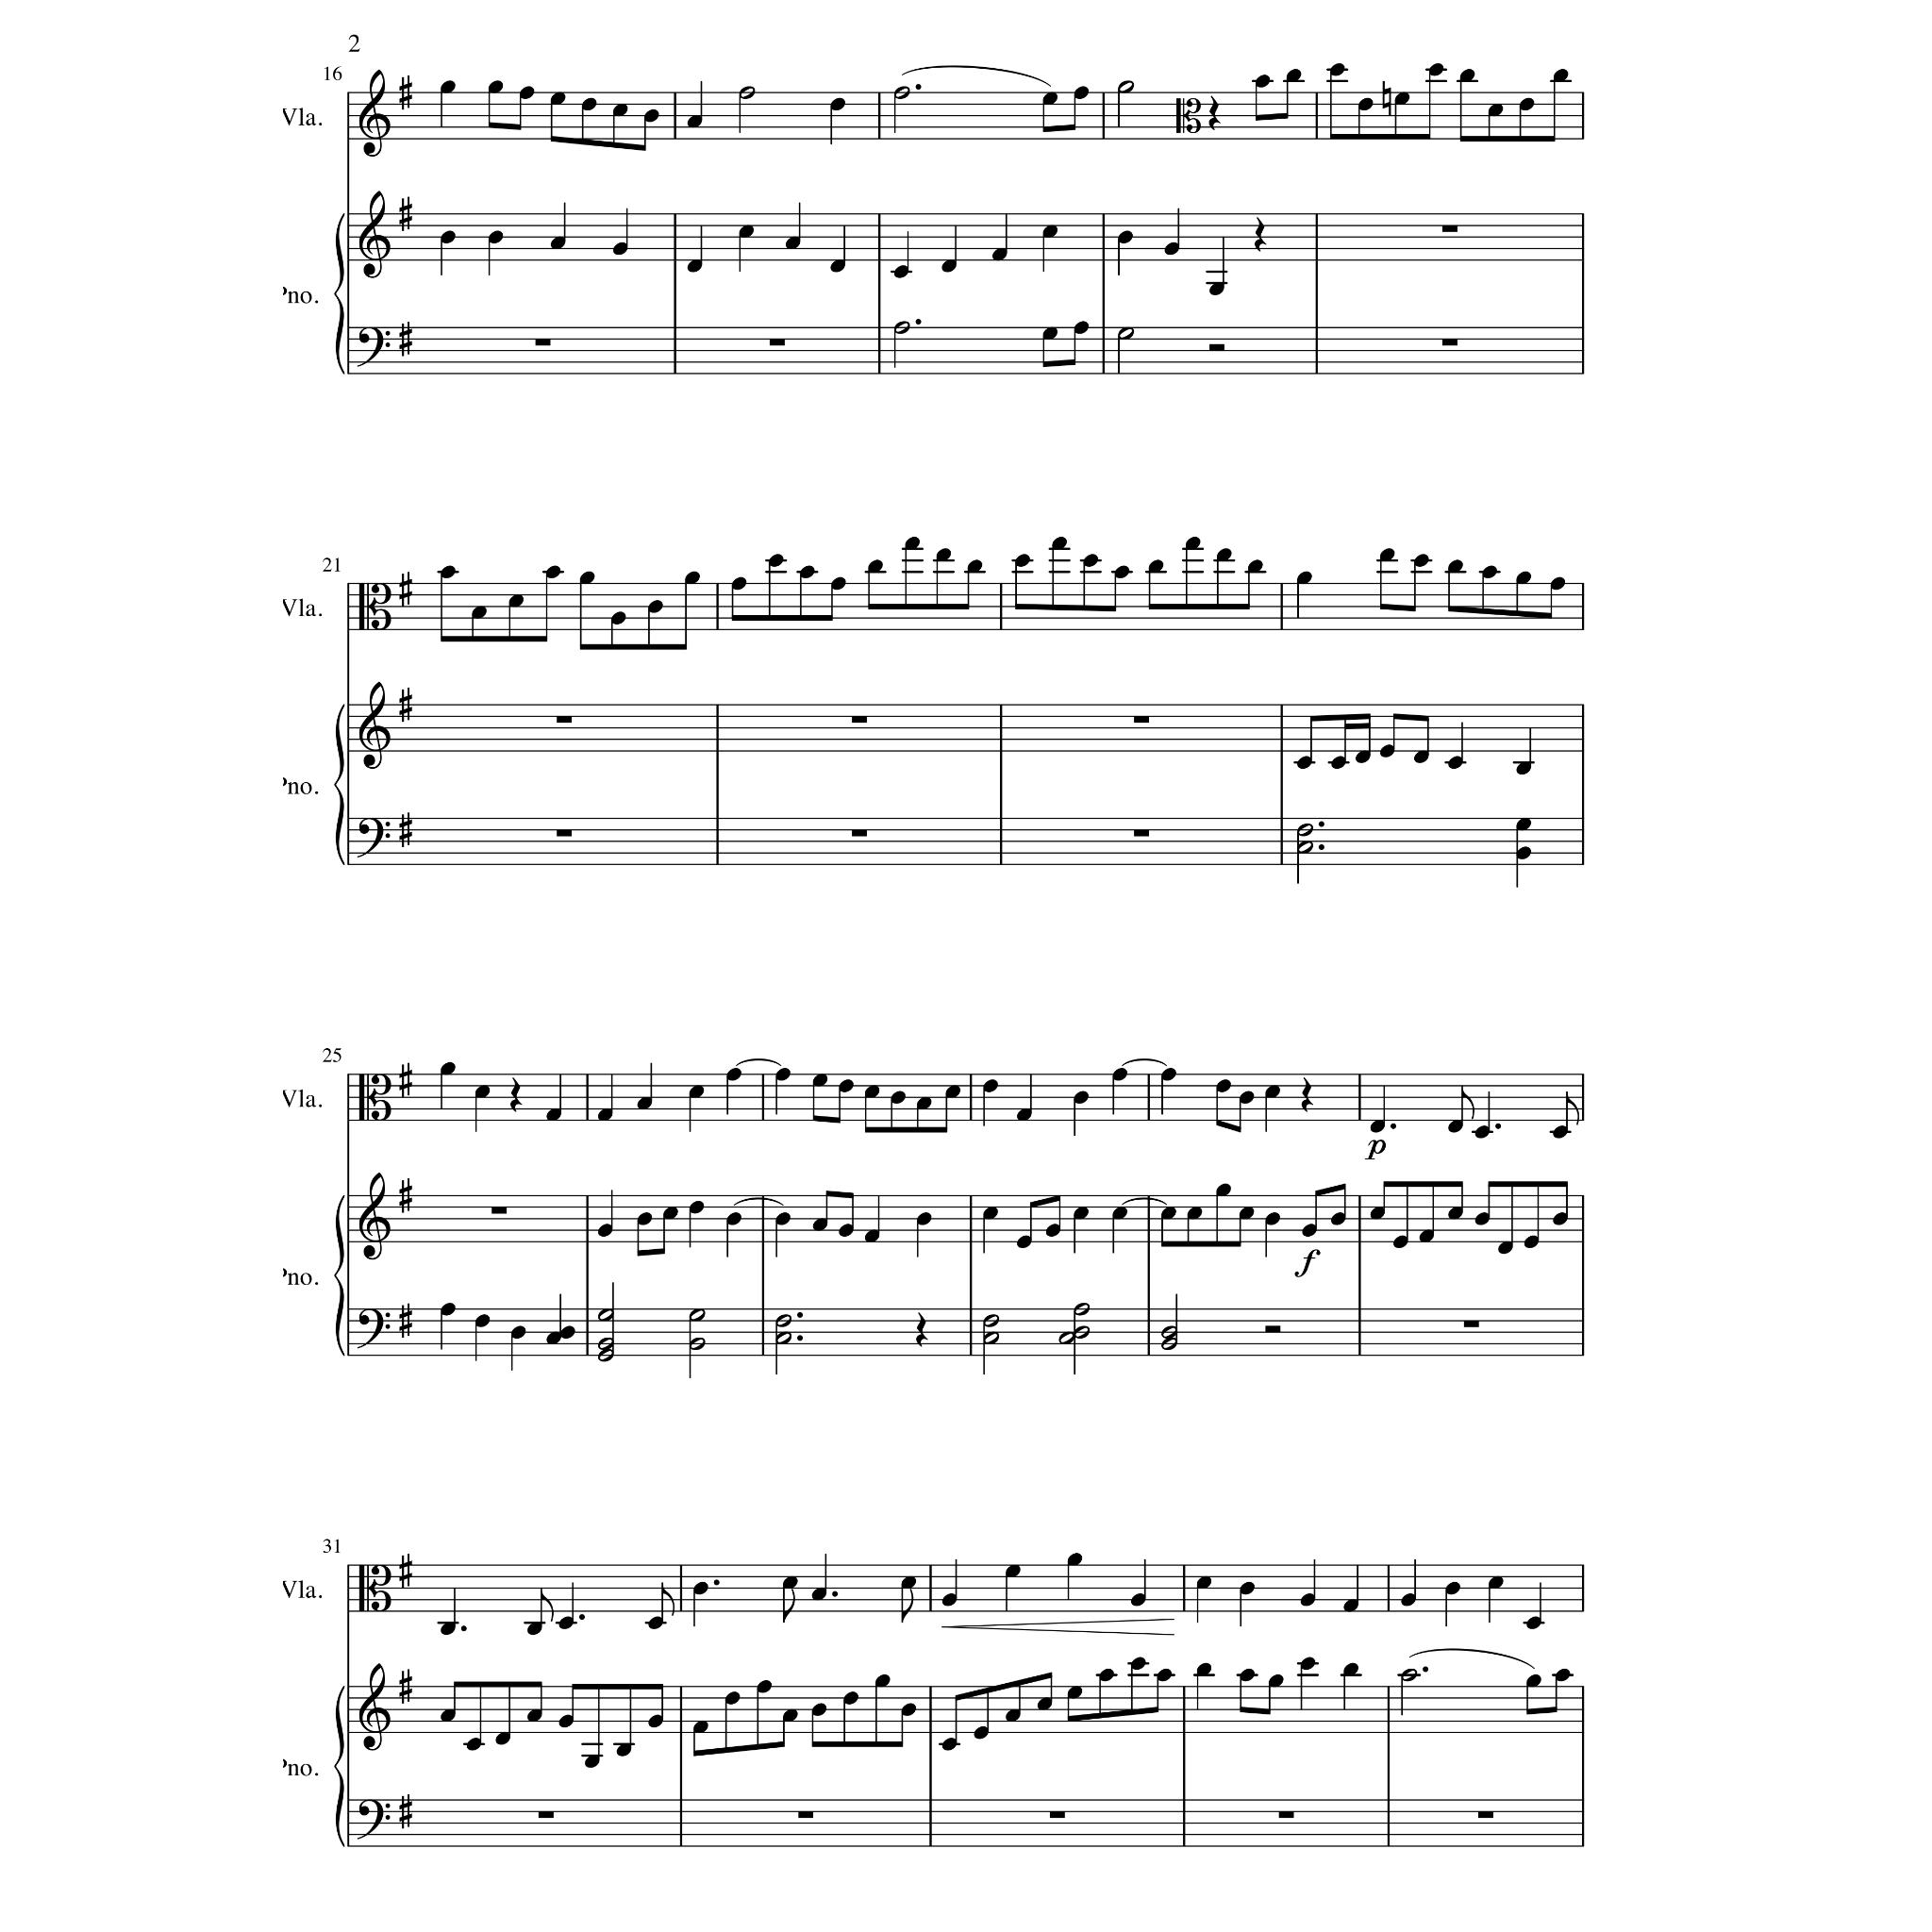brace: (333, 1686, 345, 1849), (333, 214, 345, 375), (333, 704, 345, 865), (333, 1196, 345, 1357)
fClef: (357, 327, 391, 368), (357, 817, 391, 858), (357, 1309, 391, 1350), (357, 1799, 391, 1840)
flag8thDown: (901, 1589, 913, 1622), (782, 1589, 794, 1622)
flag8thUp: (1566, 1092, 1580, 1125), (1461, 1086, 1474, 1120), (541, 1589, 554, 1622), (662, 1583, 674, 1617)
gClef: (359, 191, 391, 280), (359, 69, 391, 157), (359, 681, 391, 770), (359, 1171, 391, 1260), (359, 1663, 391, 1752)
noteheadBlack: (1184, 536, 1201, 550), (830, 577, 847, 591), (545, 1332, 563, 1346), (1553, 1668, 1571, 1683), (1525, 1674, 1543, 1688), (1525, 1615, 1543, 1629), (1299, 1656, 1316, 1670), (1042, 225, 1058, 239), (1042, 92, 1058, 106), (1254, 74, 1270, 88), (1116, 230, 1132, 244), (1074, 87, 1090, 101), (1518, 97, 1534, 111), (1394, 92, 1410, 106), (1357, 97, 1373, 111), (580, 97, 596, 111), (686, 258, 702, 272), (686, 115, 702, 129), (487, 230, 502, 244), (441, 230, 456, 244), (550, 92, 566, 106), (518, 87, 534, 101), (991, 248, 1007, 262), (941, 258, 957, 272), (738, 225, 754, 239), (830, 258, 846, 272), (830, 97, 846, 111), (1353, 750, 1369, 764), (1330, 755, 1346, 770), (1215, 548, 1231, 563), (1148, 559, 1164, 573), (1295, 755, 1311, 770), (1295, 571, 1311, 586), (1247, 559, 1263, 573), (1550, 577, 1566, 591), (1414, 750, 1430, 764), (1447, 559, 1463, 573), (1378, 743, 1394, 757), (1516, 817, 1532, 832), (1516, 846, 1532, 860), (1516, 571, 1532, 586), (1378, 548, 1394, 563), (1447, 755, 1463, 770), (648, 600, 663, 614), (579, 571, 594, 586), (731, 577, 747, 591), (683, 571, 699, 586), (966, 559, 982, 573), (936, 548, 952, 563), (904, 536, 920, 550), (1051, 536, 1067, 550), (867, 559, 883, 573), (1215, 1184, 1231, 1198), (1265, 1085, 1281, 1099), (1265, 1212, 1281, 1226), (1016, 1235, 1031, 1249), (1552, 1212, 1568, 1226), (1523, 1235, 1539, 1249), (1552, 1125, 1568, 1139), (1474, 1125, 1490, 1139), (1474, 1212, 1490, 1226), (1330, 1212, 1346, 1226), (1392, 1235, 1408, 1249), (637, 1097, 653, 1111), (637, 1212, 653, 1226), (725, 1212, 741, 1226), (688, 1085, 704, 1099), (441, 1062, 456, 1076), (441, 1302, 456, 1316), (510, 1325, 525, 1339), (559, 1325, 575, 1339), (474, 1085, 490, 1099), (916, 1097, 932, 1111), (916, 1212, 932, 1226), (863, 1085, 879, 1099), (945, 1085, 961, 1099), (775, 1212, 791, 1226), (812, 1074, 828, 1088), (812, 1217, 828, 1231), (1196, 1663, 1212, 1677), (1196, 1576, 1212, 1591), (1238, 1668, 1254, 1683), (1238, 1582, 1254, 1596), (1005, 1709, 1021, 1723), (1037, 1697, 1053, 1711), (1131, 1656, 1146, 1670), (1099, 1668, 1115, 1683), (1488, 1576, 1504, 1591), (1343, 1663, 1359, 1677), (1267, 1674, 1283, 1688), (1445, 1582, 1461, 1596), (557, 1615, 573, 1629), (527, 1709, 543, 1723), (694, 1582, 709, 1596), (648, 1615, 663, 1629), (616, 1743, 632, 1757), (495, 1732, 511, 1746), (465, 1737, 481, 1752), (441, 1709, 456, 1723), (874, 1674, 890, 1688), (842, 1691, 858, 1706), (810, 1702, 826, 1716), (810, 1587, 826, 1601), (941, 1737, 957, 1752), (901, 1702, 916, 1716), (901, 1576, 916, 1591), (724, 1691, 740, 1706), (782, 1576, 798, 1591), (782, 1709, 798, 1723), (1284, 69, 1302, 81), (1113, 566, 1131, 579), (545, 1109, 563, 1122), (1299, 1594, 1316, 1606), (1157, 1668, 1171, 1683), (1208, 283, 1224, 295), (1164, 242, 1180, 255), (1042, 327, 1058, 340), (1074, 322, 1090, 334), (1552, 69, 1568, 81), (1488, 104, 1504, 117), (1460, 69, 1476, 81), (1329, 64, 1345, 76), (1428, 64, 1444, 76), (612, 104, 628, 117), (612, 242, 628, 255), (642, 110, 658, 122), (487, 81, 502, 94), (441, 81, 456, 94), (550, 237, 566, 249), (893, 265, 909, 278), (784, 237, 800, 249), (1083, 554, 1099, 566), (1414, 554, 1430, 566), (1516, 763, 1532, 775), (1481, 566, 1497, 579), (610, 612, 626, 625), (545, 566, 561, 579), (508, 594, 524, 607), (471, 607, 487, 619), (441, 566, 456, 579), (798, 566, 814, 579), (768, 554, 784, 566), (1215, 1079, 1231, 1092), (1187, 1207, 1203, 1219), (1238, 1092, 1254, 1104), (1238, 1207, 1254, 1219), (1074, 1092, 1090, 1104), (1046, 1224, 1062, 1237), (1074, 1207, 1090, 1219), (1016, 1109, 1031, 1122), (1161, 1207, 1177, 1219), (1161, 1069, 1177, 1081), (1369, 1120, 1385, 1132), (1369, 1207, 1385, 1219), (1302, 1224, 1318, 1237), (1419, 1230, 1435, 1242), (1447, 1120, 1463, 1132), (1447, 1207, 1463, 1219), (596, 1109, 612, 1122), (596, 1224, 612, 1237), (725, 1069, 741, 1081), (662, 1207, 678, 1219), (688, 1201, 704, 1214), (474, 1315, 490, 1327), (890, 1092, 906, 1104), (839, 1224, 855, 1237), (863, 1230, 879, 1242), (982, 1079, 998, 1092), (982, 1207, 998, 1219), (839, 1079, 855, 1092), (775, 1069, 791, 1081), (1005, 1566, 1021, 1578), (973, 1727, 989, 1739), (1131, 1594, 1146, 1606), (1067, 1686, 1083, 1698), (1067, 1553, 1083, 1566), (1401, 1594, 1417, 1606), (1343, 1599, 1359, 1612), (557, 1714, 573, 1727), (584, 1755, 600, 1767), (527, 1622, 543, 1635), (694, 1721, 709, 1734), (648, 1714, 663, 1727), (441, 1622, 456, 1635), (941, 1594, 957, 1606), (755, 1681, 771, 1693), (1016, 554, 1030, 566), (1113, 1207, 1127, 1219), (1113, 1069, 1127, 1081), (1499, 1242, 1513, 1254)
noteheadHalf: (738, 87, 755, 101), (893, 87, 911, 101), (1072, 1325, 1090, 1339), (1072, 1302, 1090, 1316), (688, 1338, 706, 1352), (982, 1332, 1000, 1346), (1399, 1668, 1417, 1683), (1297, 823, 1313, 837), (1297, 840, 1313, 855), (1058, 1332, 1074, 1346), (1161, 1338, 1177, 1352), (1161, 1325, 1177, 1339), (598, 1348, 614, 1362), (598, 1338, 614, 1352), (775, 1332, 791, 1346), (1116, 81, 1134, 94), (1116, 327, 1134, 340), (893, 322, 911, 334), (688, 1309, 706, 1322), (982, 1315, 1000, 1327), (598, 1309, 614, 1322), (775, 1315, 791, 1327)
restHalf: (1208, 345, 1224, 352), (1265, 1325, 1281, 1332)
restQuarter: (510, 1076, 522, 1113), (1208, 96, 1221, 131), (1254, 218, 1267, 253), (915, 1313, 927, 1348), (1302, 1076, 1313, 1113)
restWhole: (770, 338, 786, 347), (534, 338, 550, 347), (1442, 225, 1458, 234), (1442, 338, 1458, 347), (492, 1207, 508, 1215), (1463, 1320, 1479, 1329), (851, 717, 867, 724), (851, 830, 867, 837), (1134, 717, 1150, 724), (1134, 830, 1150, 837), (556, 717, 571, 724), (556, 830, 571, 837), (798, 1812, 814, 1819), (1049, 1812, 1065, 1819), (1277, 1812, 1293, 1819), (1477, 1812, 1493, 1819), (538, 1812, 554, 1819)
